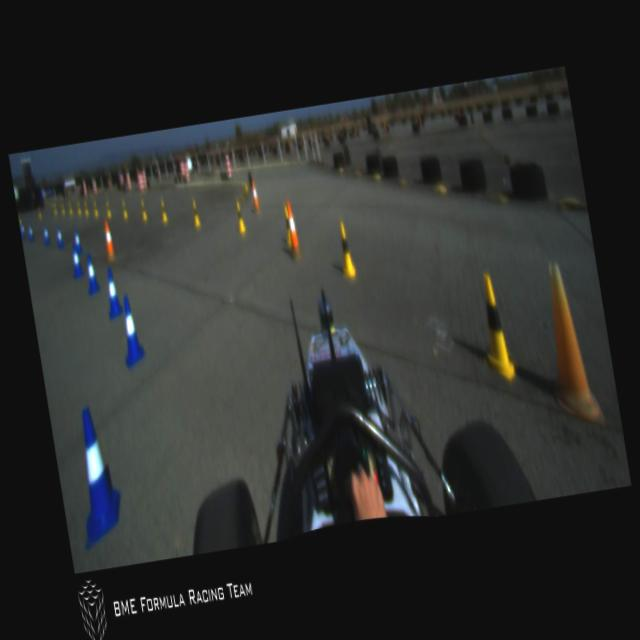blue_cone: (65, 404, 129, 551), (116, 294, 148, 368), (102, 266, 124, 319), (82, 253, 101, 295), (70, 244, 84, 278), (54, 224, 64, 248), (42, 223, 52, 245), (74, 228, 82, 252), (26, 222, 34, 240)
unknown_cone: (534, 257, 606, 428), (284, 198, 302, 259), (102, 219, 116, 260), (248, 176, 260, 212)
yellow_cone: (472, 270, 518, 385), (334, 219, 356, 279), (281, 204, 293, 246), (234, 200, 247, 234), (190, 200, 202, 228), (158, 198, 168, 223), (139, 198, 148, 220), (104, 197, 113, 218), (121, 200, 129, 220), (92, 198, 99, 216), (82, 200, 89, 217), (75, 199, 82, 216)
